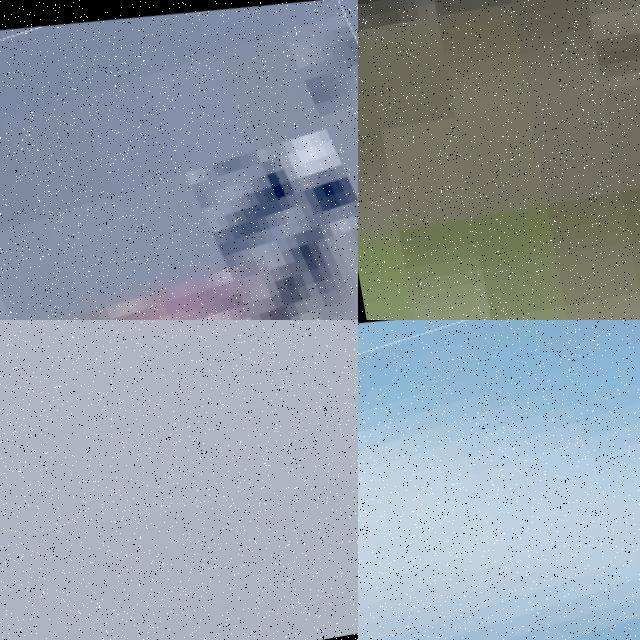drone: (0, 0, 358, 320), (358, 320, 640, 640)
